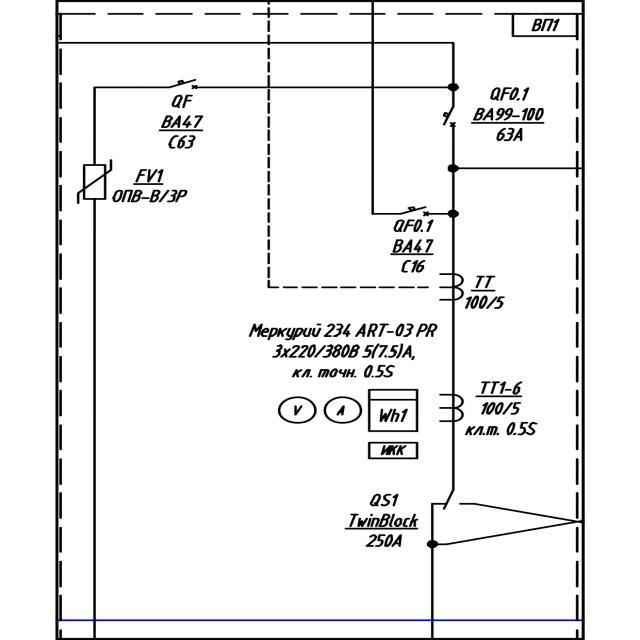-: (244, 318, 440, 382), (468, 105, 552, 147), (341, 510, 423, 551), (462, 399, 540, 439), (386, 236, 440, 278), (158, 110, 209, 152), (464, 273, 508, 315), (110, 188, 194, 208), (526, 15, 563, 35)
FV: (75, 155, 114, 207)
PA: (321, 394, 363, 425)
PV: (276, 394, 318, 424)
QF: (165, 74, 202, 92), (398, 203, 431, 221), (438, 102, 458, 130)
TT: (434, 269, 466, 304), (435, 392, 467, 424)
WH: (365, 386, 421, 434)
switch: (438, 488, 464, 507)
